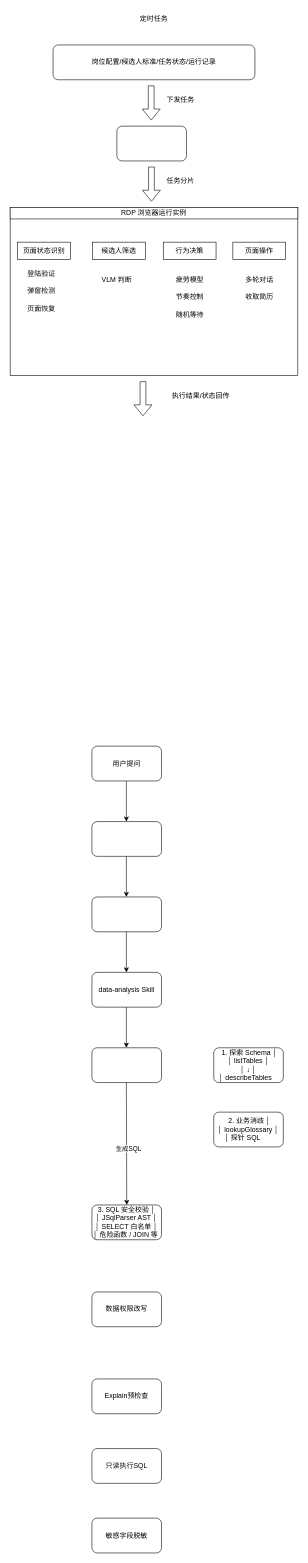
This 308x1563 diagram has some shape labels left out. The centre of each missing label's shape, as x and y in pixels:
DutyScheduler: pixel 151 143
ReactAgent: pixel 126 838
TodoWrite拆分任务: pixel 126 914
ToolSearch 按需发现数据分析工具: pixel 126 1065
